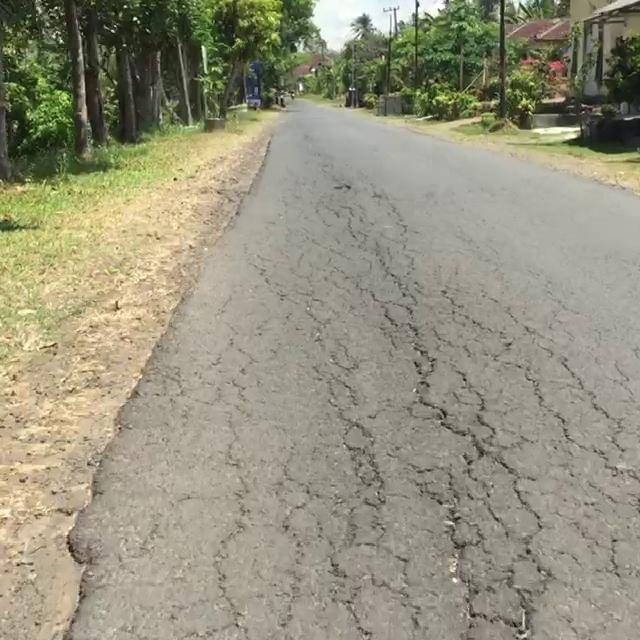retak_kulit_buaya: (244, 235, 578, 640)
retak_memanjang: (468, 425, 640, 640)
